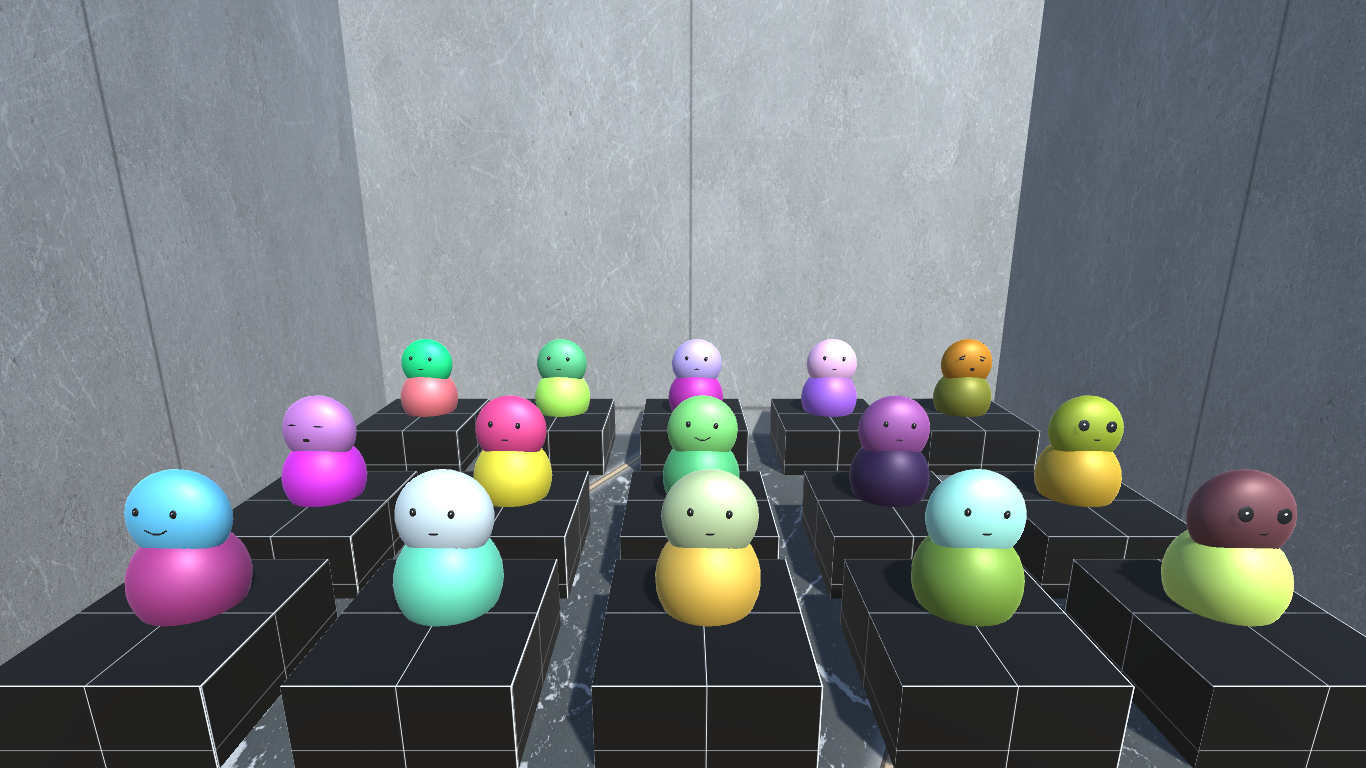blob_atento: (1172, 462, 1319, 568), (1040, 388, 1127, 453)
blob_dormindo: (270, 390, 359, 457)
blob_entediado: (938, 341, 992, 389)
blob_feliz: (121, 464, 235, 559), (669, 392, 743, 462)
blob_normal: (920, 461, 1029, 554), (659, 464, 767, 554), (394, 468, 494, 553), (468, 393, 556, 456), (856, 393, 937, 457), (392, 335, 454, 385), (532, 333, 586, 384), (666, 333, 722, 381), (801, 332, 859, 378)
